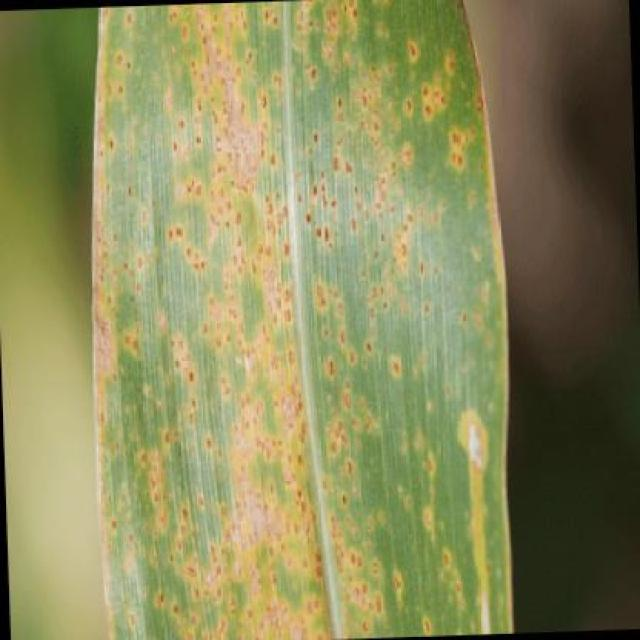Corn_Rust: (84, 14, 522, 634)
